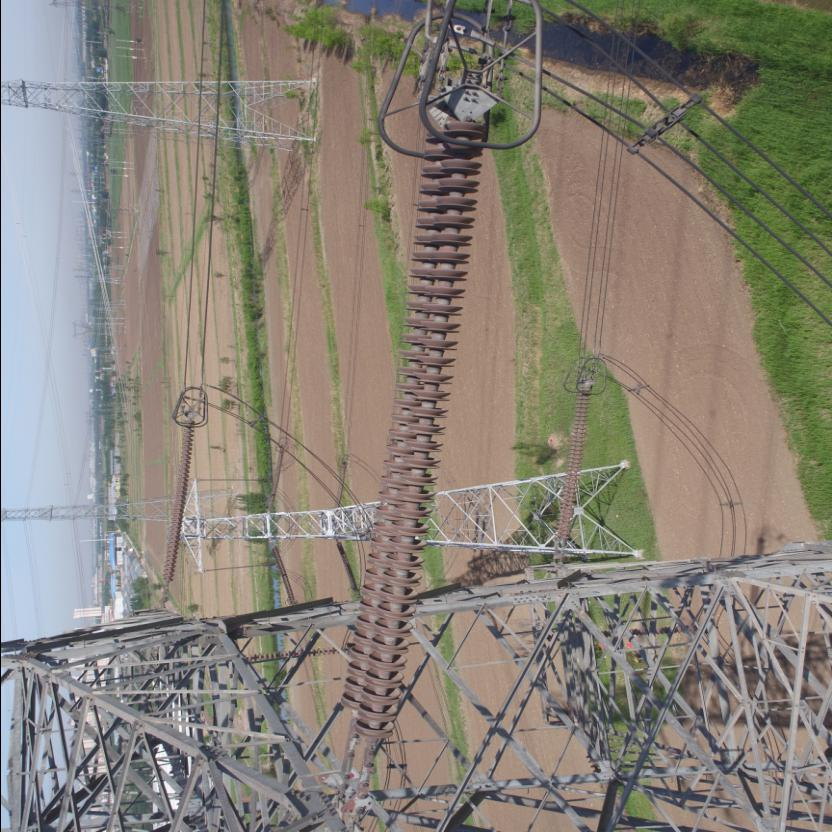insulator: (333, 113, 495, 766), (158, 420, 194, 592), (552, 385, 590, 545)
